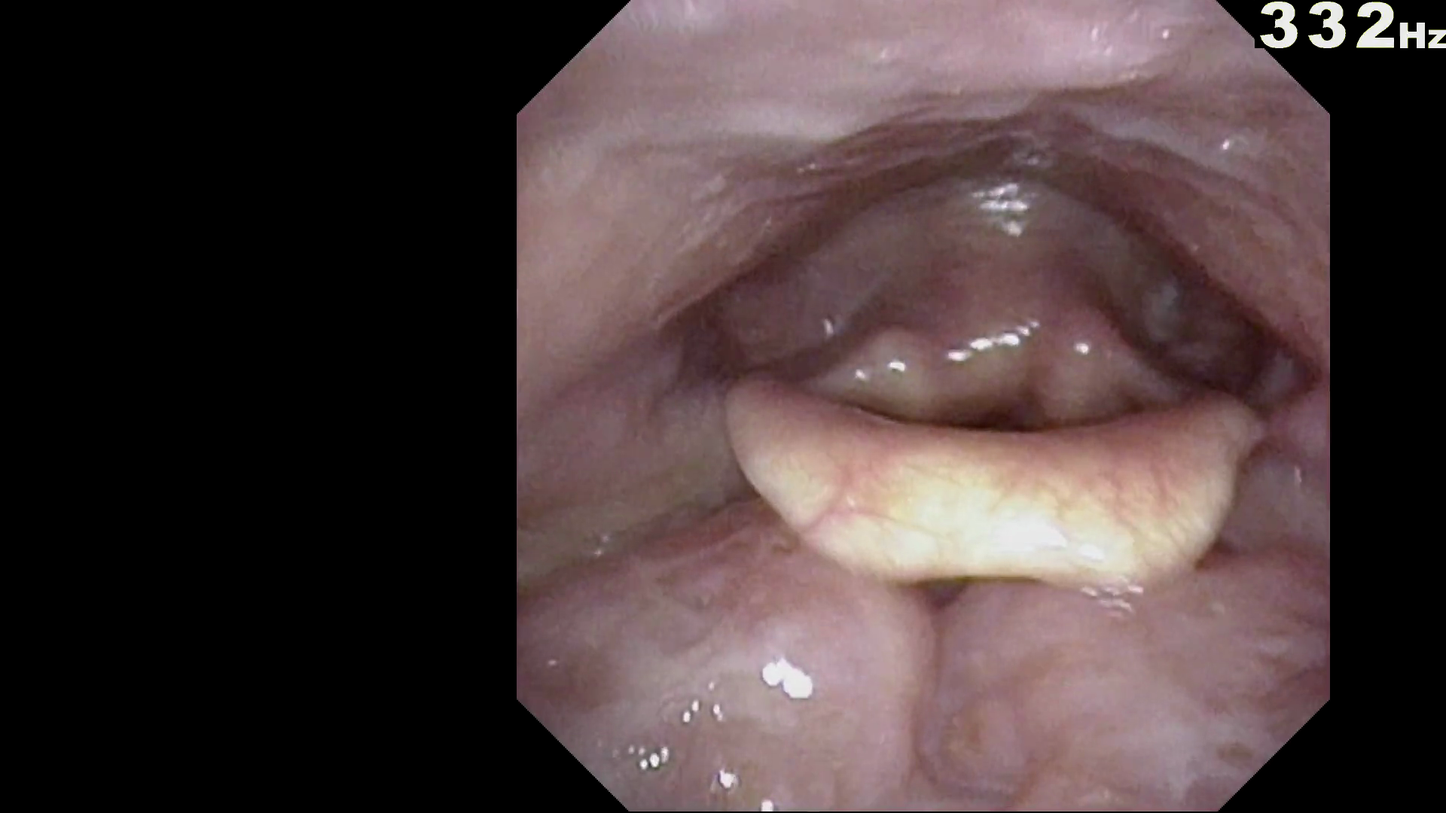epiglottis: (699, 367, 1301, 606)
trachea: (940, 342, 1087, 496)
